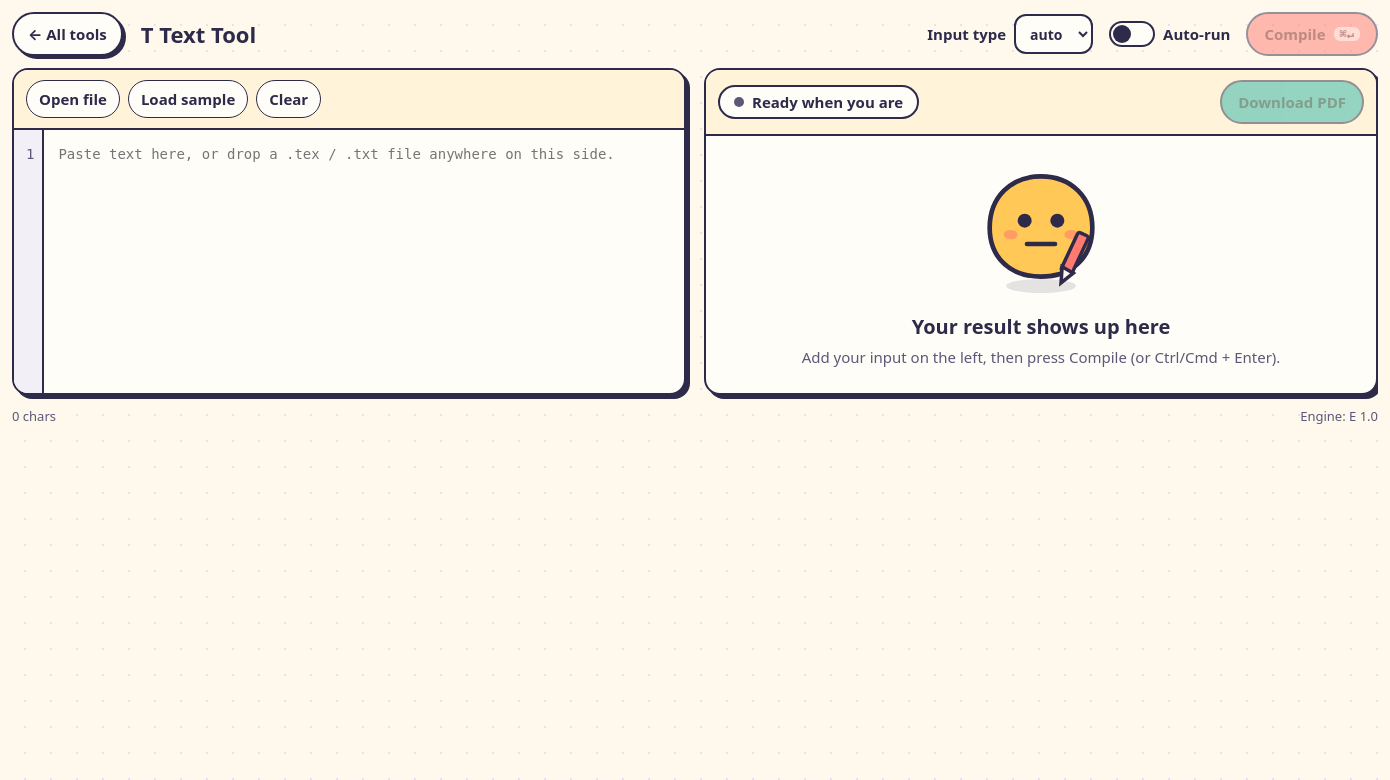
Test: running a text tool › shows a friendly error with the log when the tool fails
The width and height of the screenshot is (1390, 780).
Step 1. Replace the text in the text box named "Input text" with "\\nope" → (364, 261), box [44, 130, 684, 392]
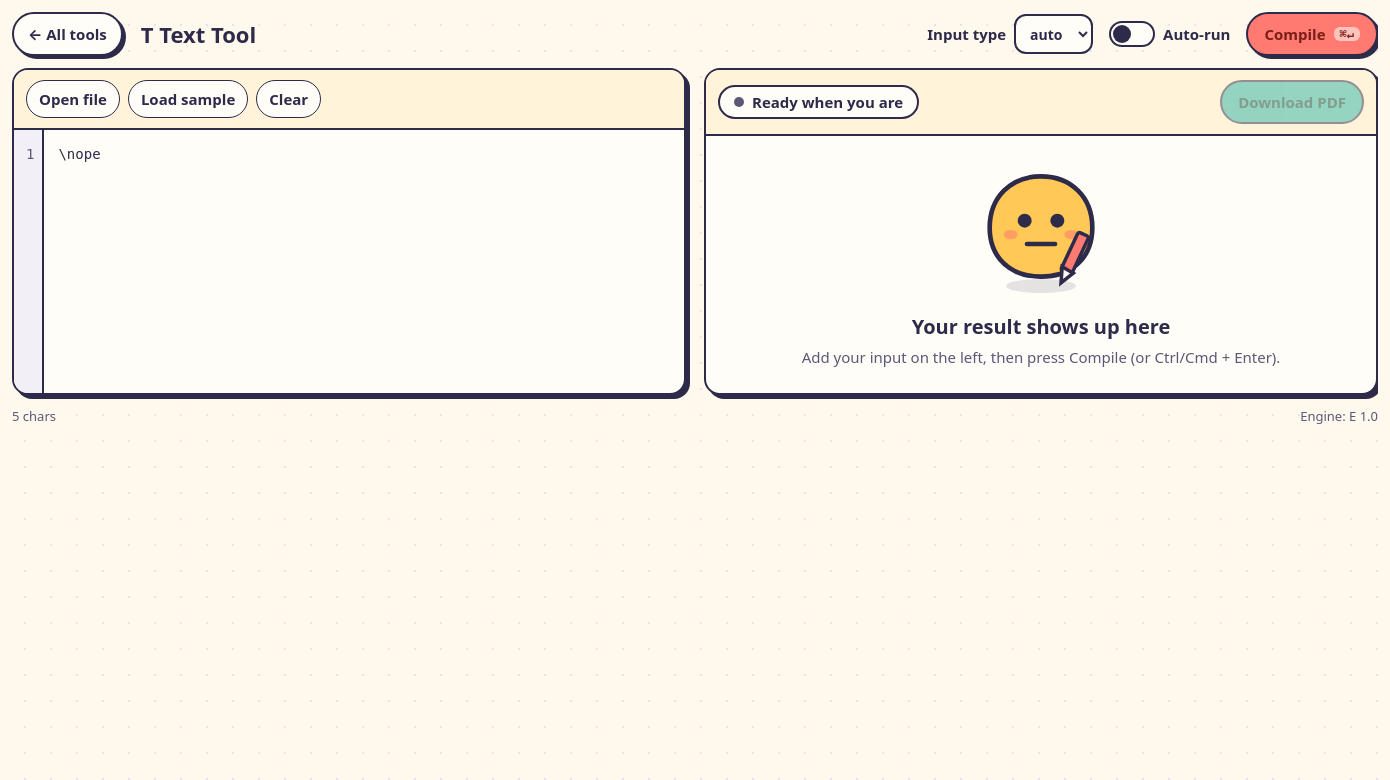
Step 2. Click the button "Compile ⌘↵" → (1312, 34), box [1246, 12, 1378, 56]
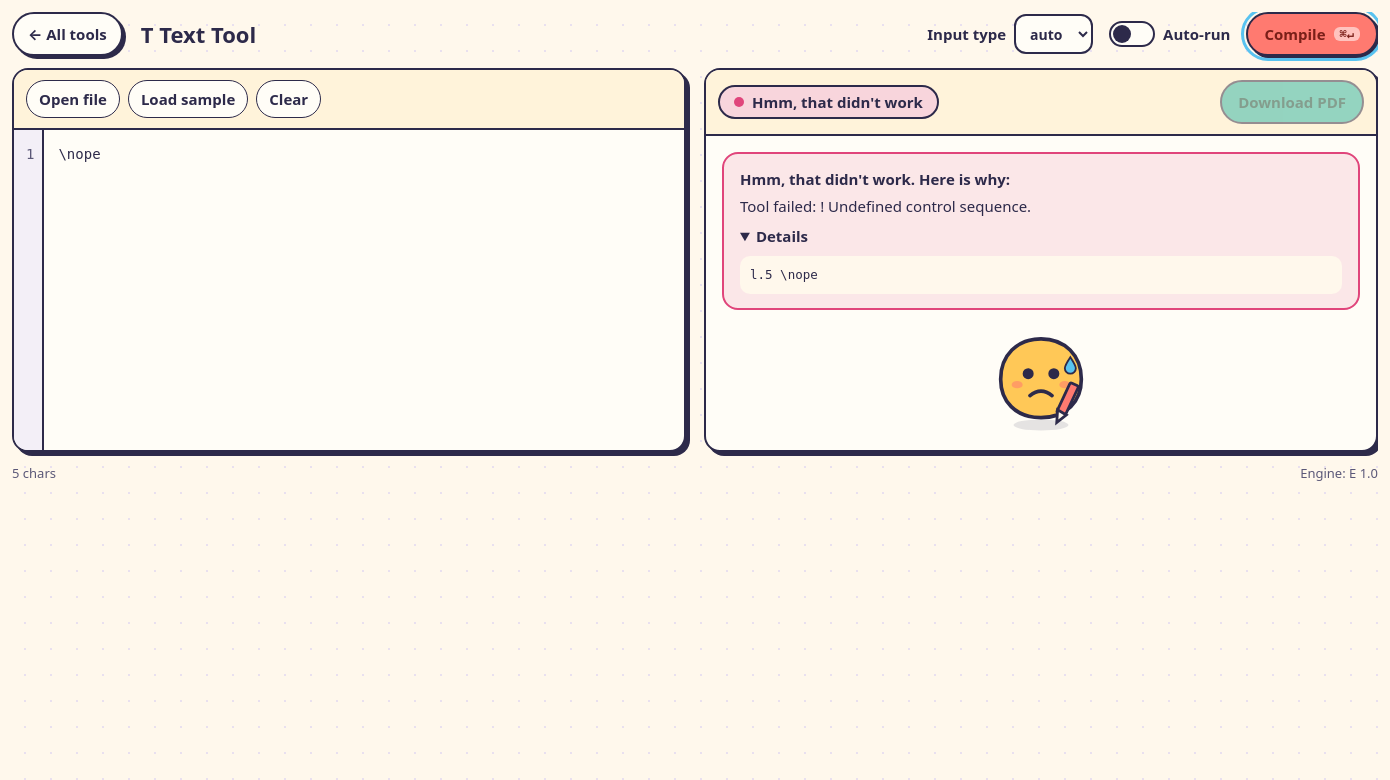
Expected: the message that starts with "Hmm, that didn't work. Here is why:" shows "Undefined control sequence", [740, 196, 1031, 216]
Expected: the text "l.5 \\nope" is shown, [740, 256, 1342, 294]
Expected: the message "Hmm, that didn't work" is shown, [718, 85, 939, 119]
